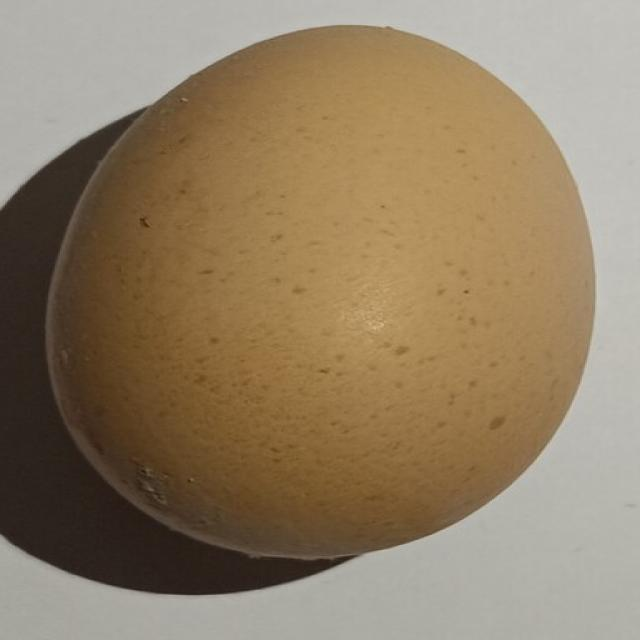unfresh: (35, 18, 586, 564)
